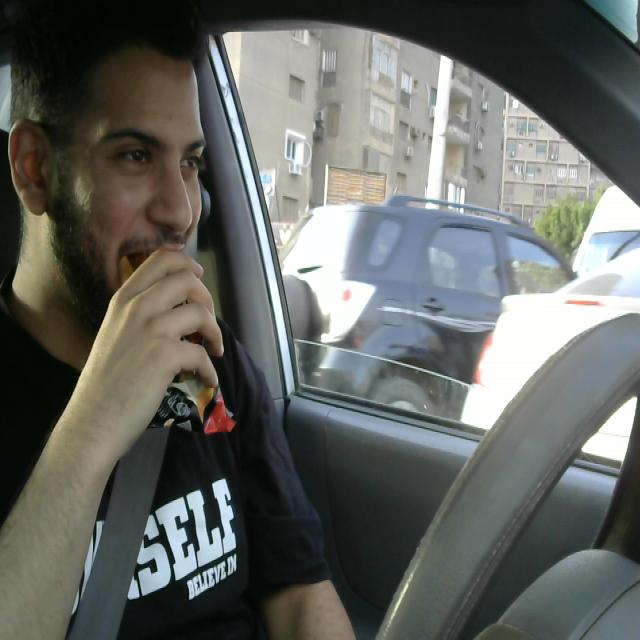eating: (138, 232, 238, 433)
